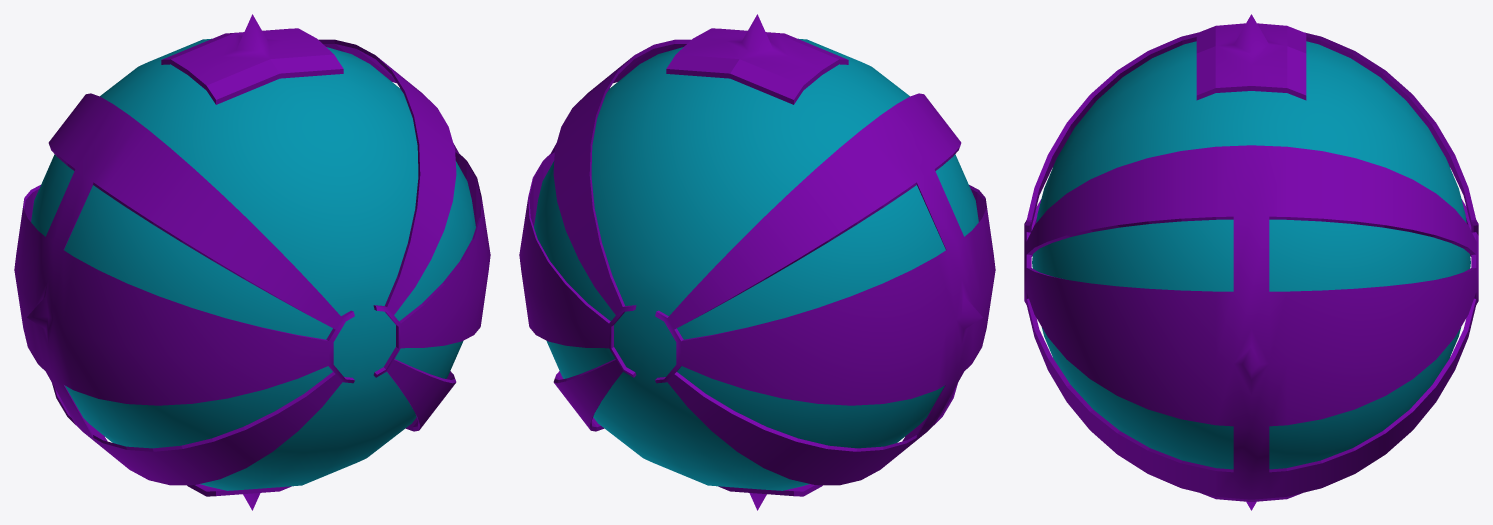
The model's file is Grenade.fbx.
3 views of the same model, side by side, from view 1: azimuth 30°, elevation 25°; view 2: azimuth 150°, elevation 25°; view 3: azimuth 270°, elevation 25° (orthographic).
Visible parts, largest first — view 1: centro, exterior; view 2: centro, exterior; view 3: exterior, centro.
Boxes of the visible parts, x1,y1,x2,y2 form: centro: (31, 38, 475, 490); exterior: (14, 14, 490, 510); centro: (534, 38, 978, 490); exterior: (519, 14, 995, 510); exterior: (1024, 14, 1478, 510); centro: (1032, 41, 1470, 469).
Bounding box in the file's own units: 2.12 × 2.23 × 1.85.
